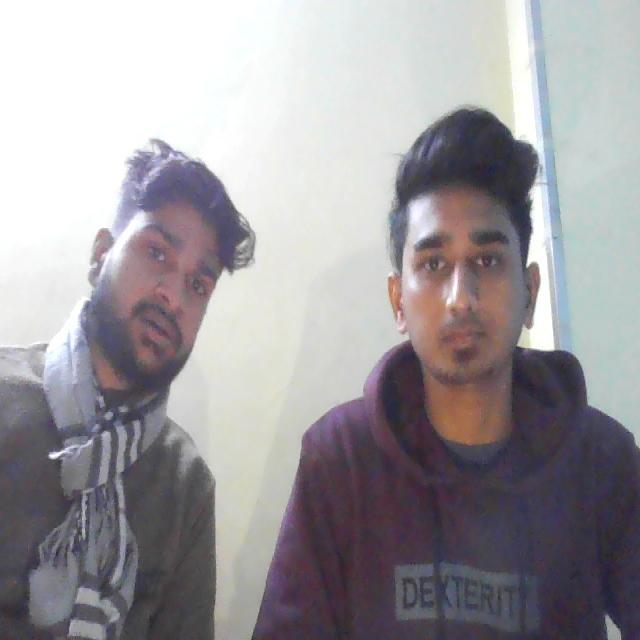real: (395, 121, 546, 407), (103, 159, 219, 377)
